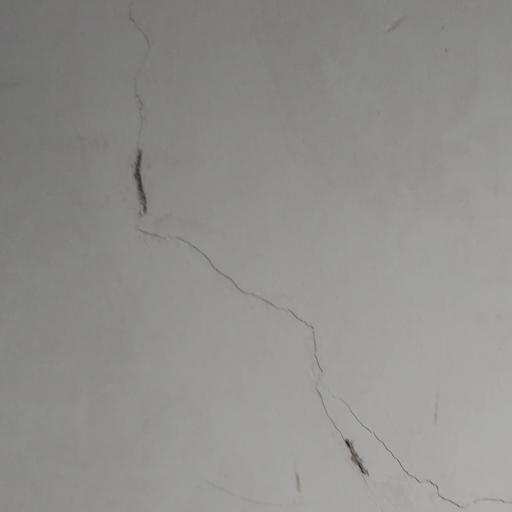minor_crack: (114, 1, 512, 512)
